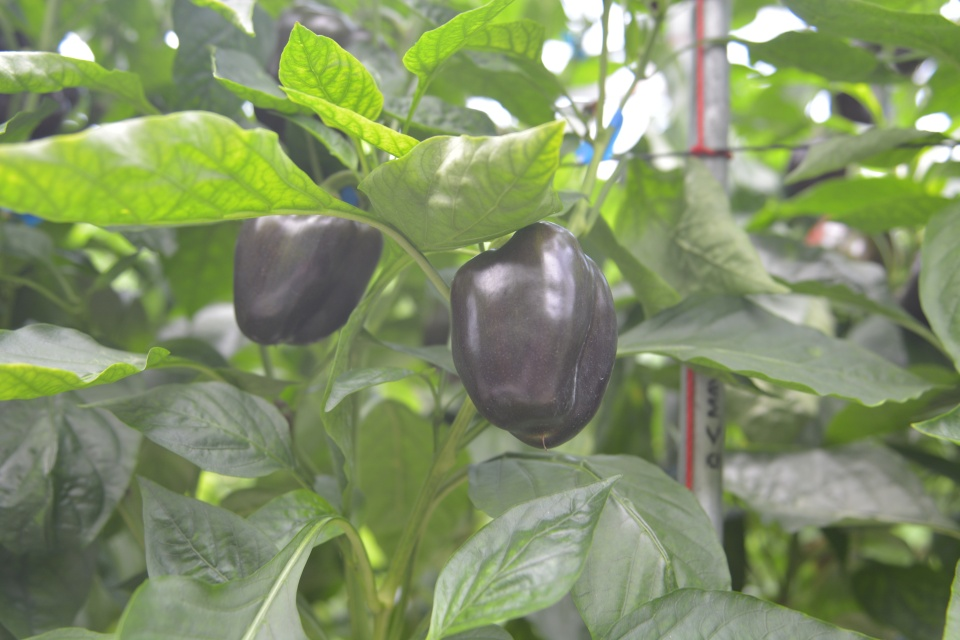fruit: (446, 220, 618, 446), (232, 212, 384, 347), (252, 2, 352, 146)
